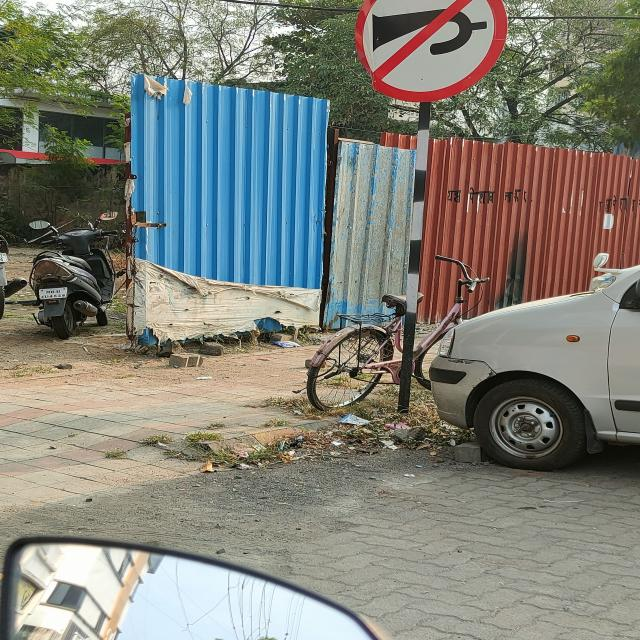HORN_PROHIBITED: (355, 1, 508, 102)
